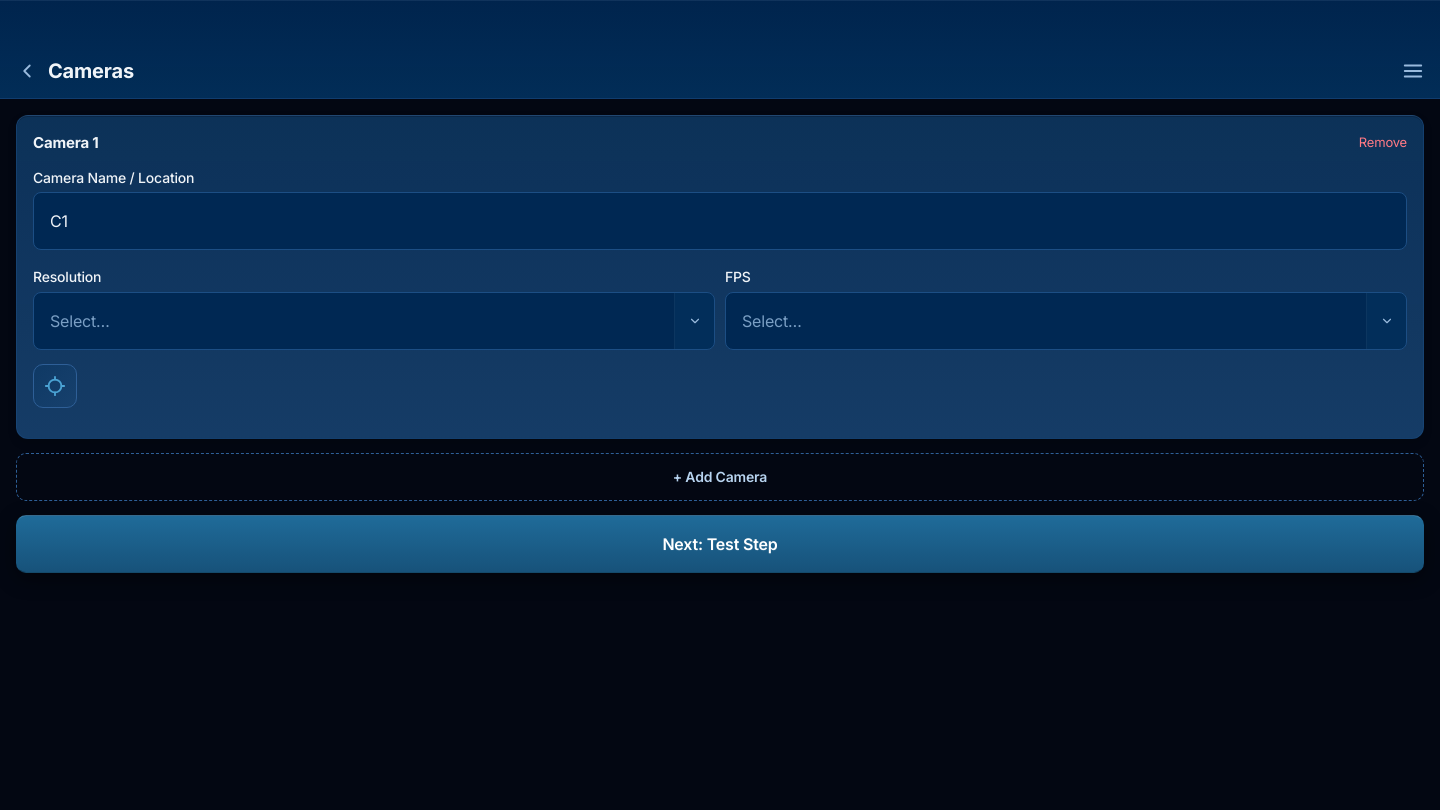
Scenario: Cameras — honest failure paths › reports a permission denial verbatim and writes nothing
The width and height of the screenshot is (1440, 810).
Click the button named "Capture camera GPS location".
click(55, 386)  # box x1=33 y1=364 x2=77 y2=408
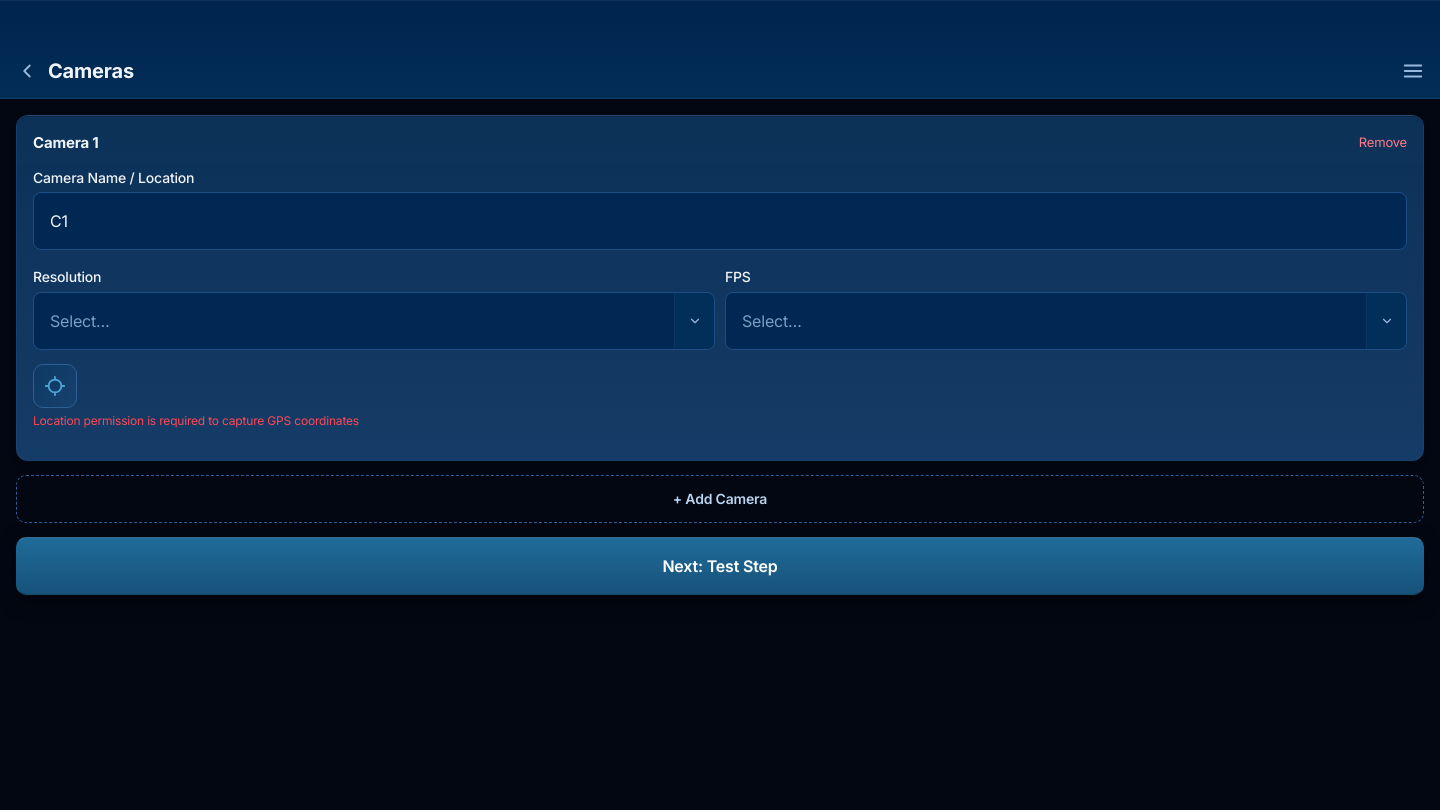
Expected: the message with test id "camera-gps-c1-error" reads "Location permission is required to capture GPS coordinates", x1=33 y1=413 x2=359 y2=428
